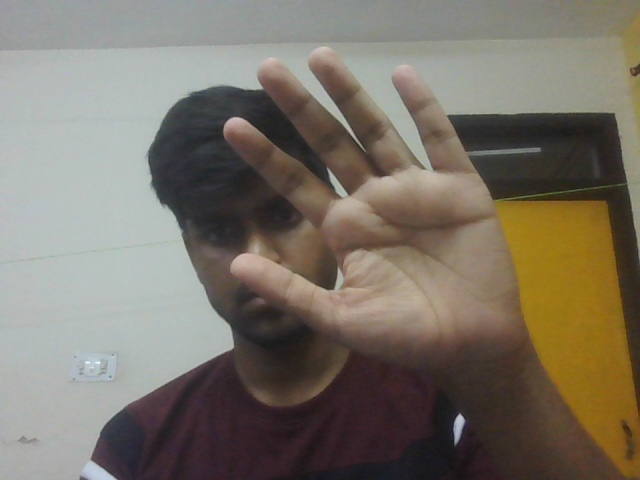hello: (211, 39, 546, 392)
